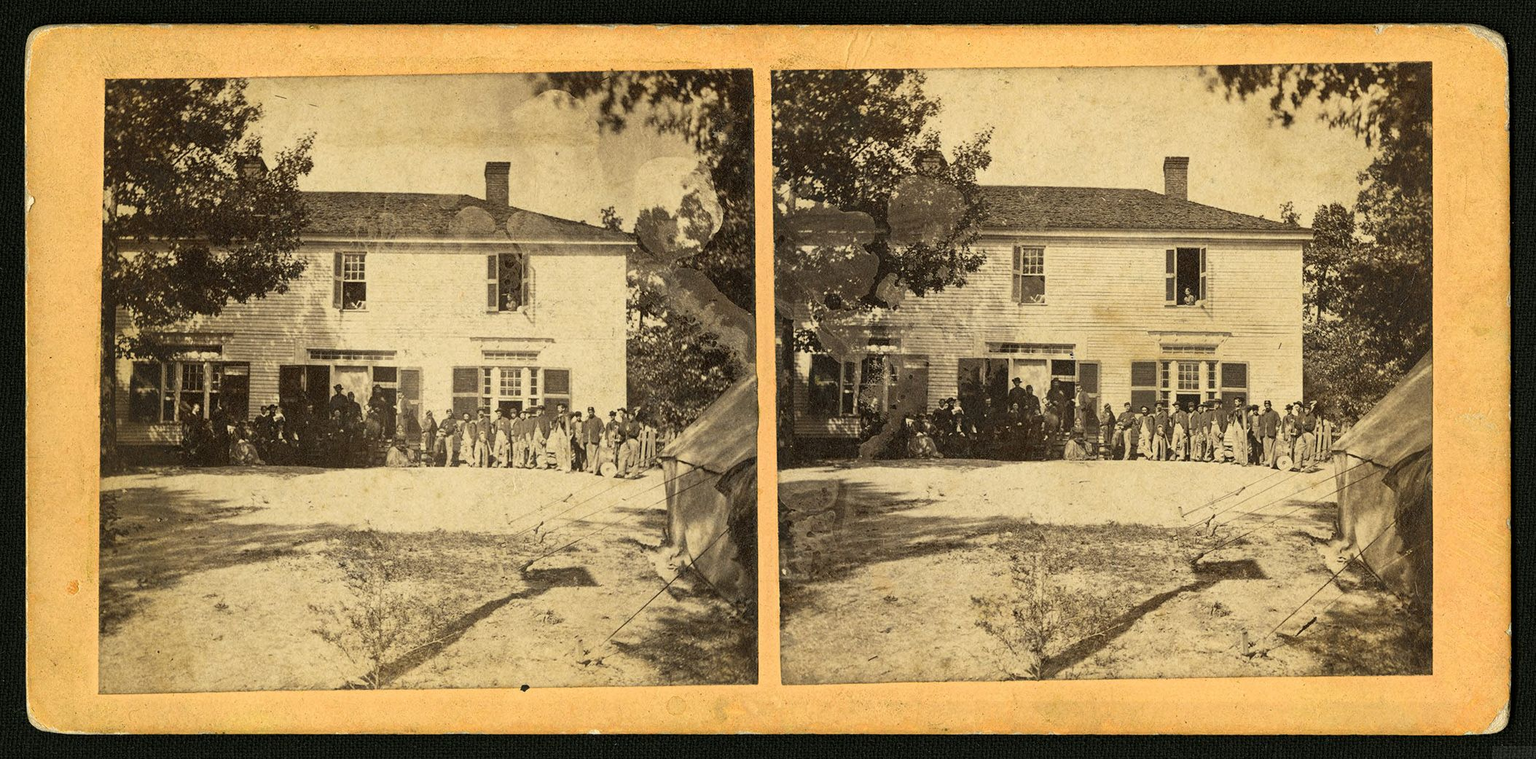half_image: (99, 71, 759, 694), (772, 62, 1433, 684)
